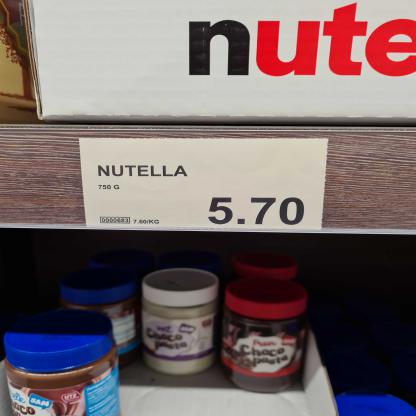prtg: (80, 139, 331, 232)
